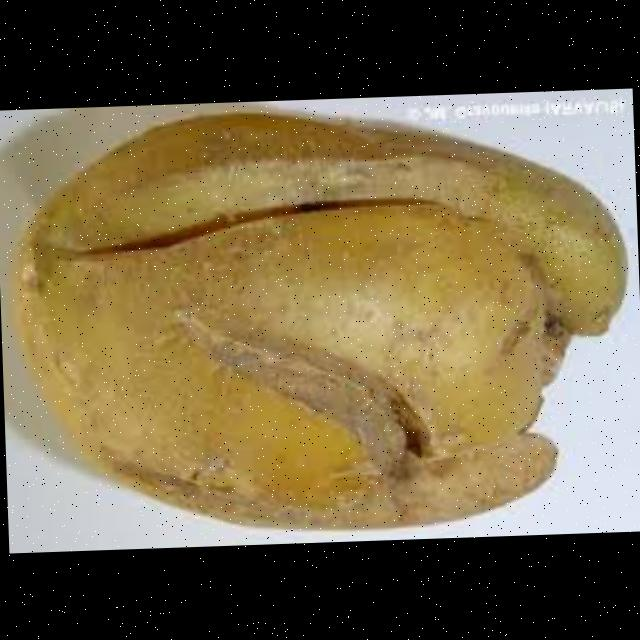Damaged potato: (14, 100, 636, 540)
